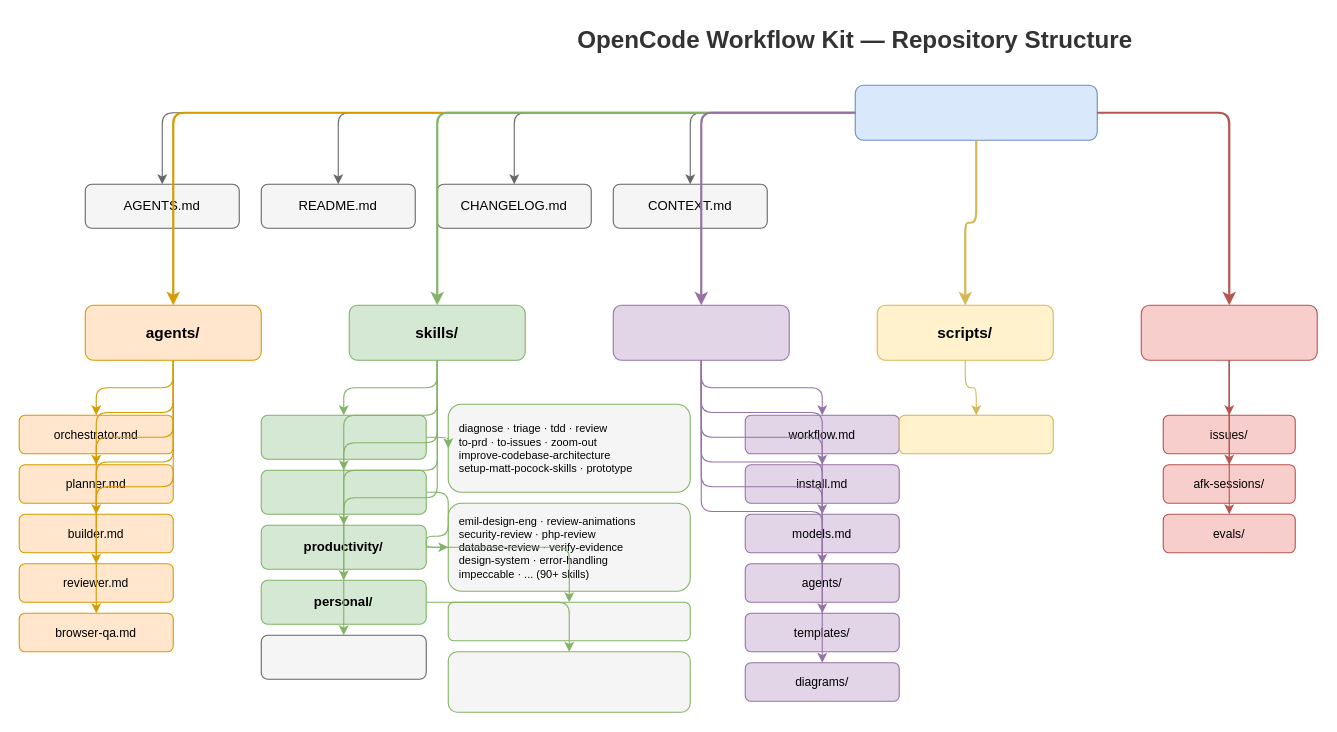
Some shapes in this 1337 by 732 pixel diagram are drawn without their labels. The box of each missing label's shape, as (x1, y1, x2, y2) in pixels:
.scratch/: (1140, 304, 1317, 360)
deprecated/: (260, 634, 426, 679)
docs/: (612, 304, 789, 360)
engineering/: (260, 414, 426, 459)
grill-me · handoff · write-a-skill: (447, 601, 690, 641)
link-skills.sh: (898, 414, 1053, 454)
misc/: (260, 469, 426, 514)
opencode-workflow/: (854, 84, 1097, 140)
ponytail (+ 5 companions) eval · openviking · ddev idea-fragments: (447, 651, 690, 712)
